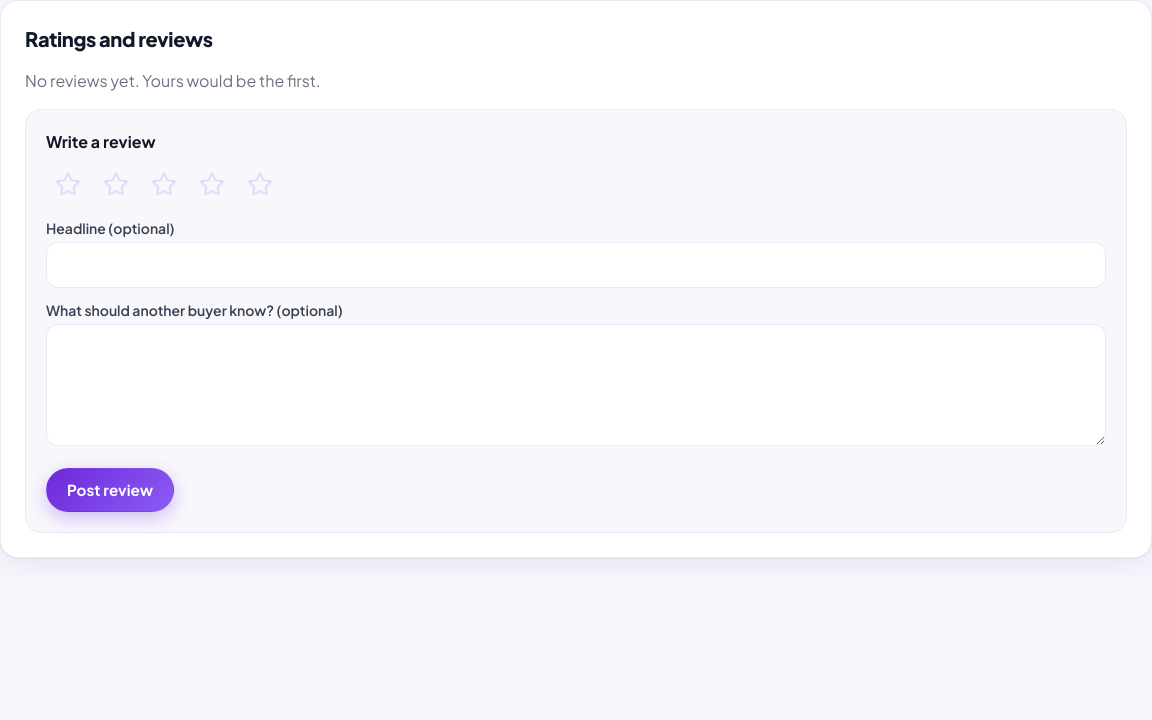
Test: writing one › will not post without a star, and says so
Click the button "Post review" at (110, 490), box [46,468,174,512]
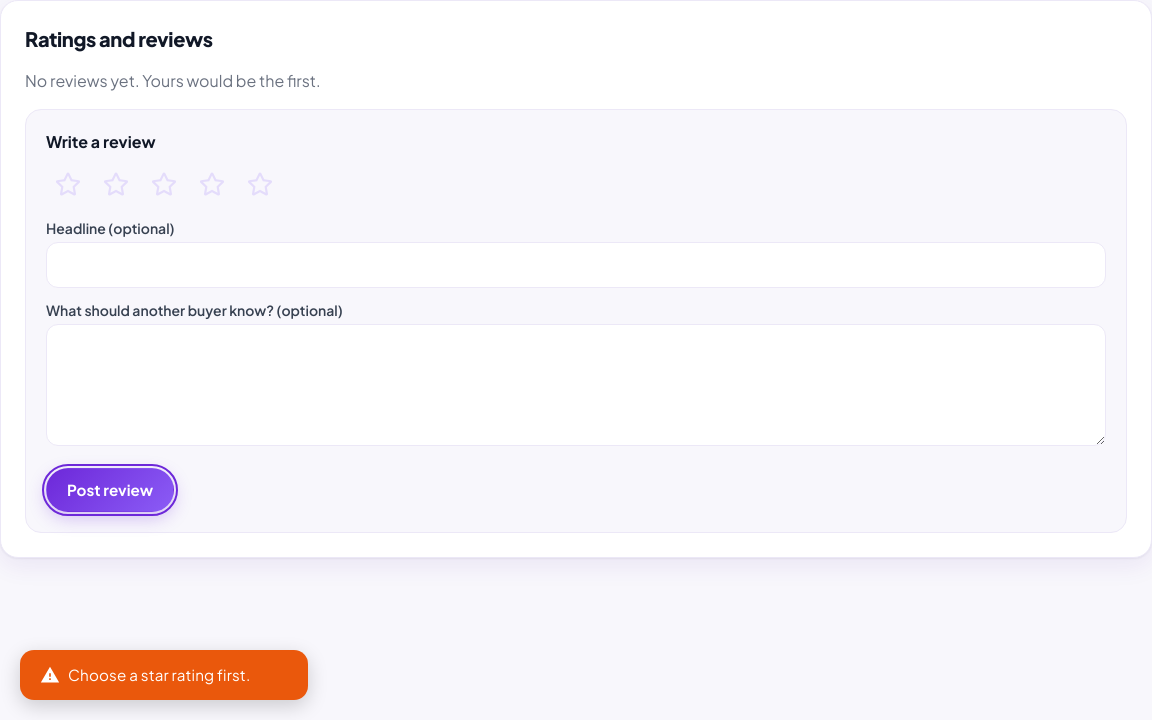
Check: the message shows "Choose a star rating", box [68,665,250,684]
